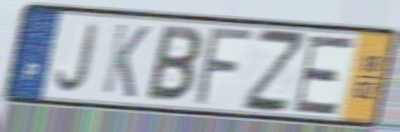B: (143, 22, 204, 105)
E: (290, 34, 358, 117)
F: (190, 26, 258, 108)
J: (53, 20, 103, 95)
K: (99, 21, 153, 102)
Z: (240, 25, 306, 116)
